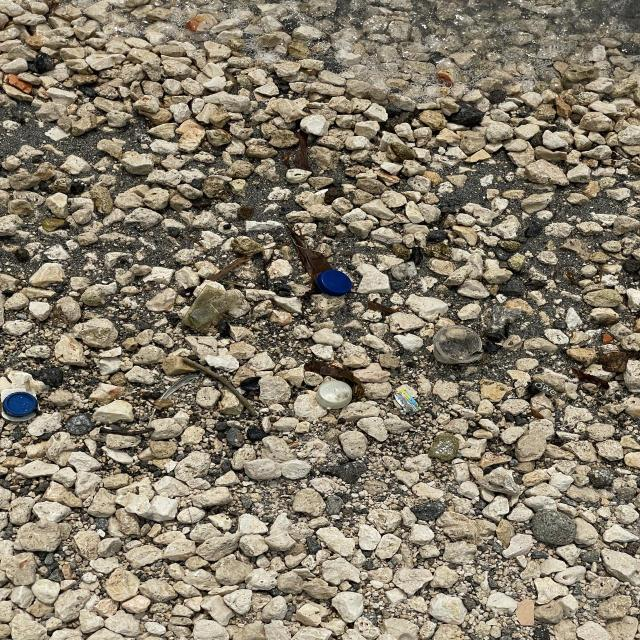plastic_waste: (433, 326, 485, 366), (317, 270, 353, 298), (3, 393, 39, 419), (395, 389, 424, 415)
